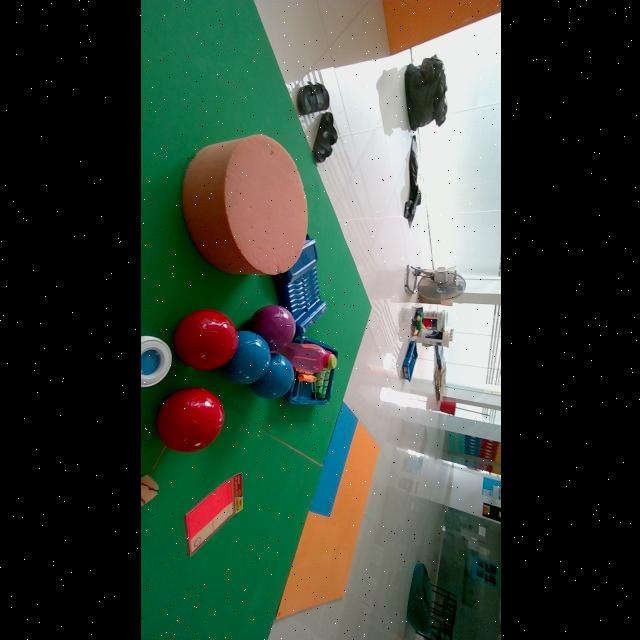B: (220, 331, 270, 384), (249, 354, 294, 398)
P: (248, 305, 295, 351)
R: (156, 388, 224, 452), (174, 309, 238, 370)
